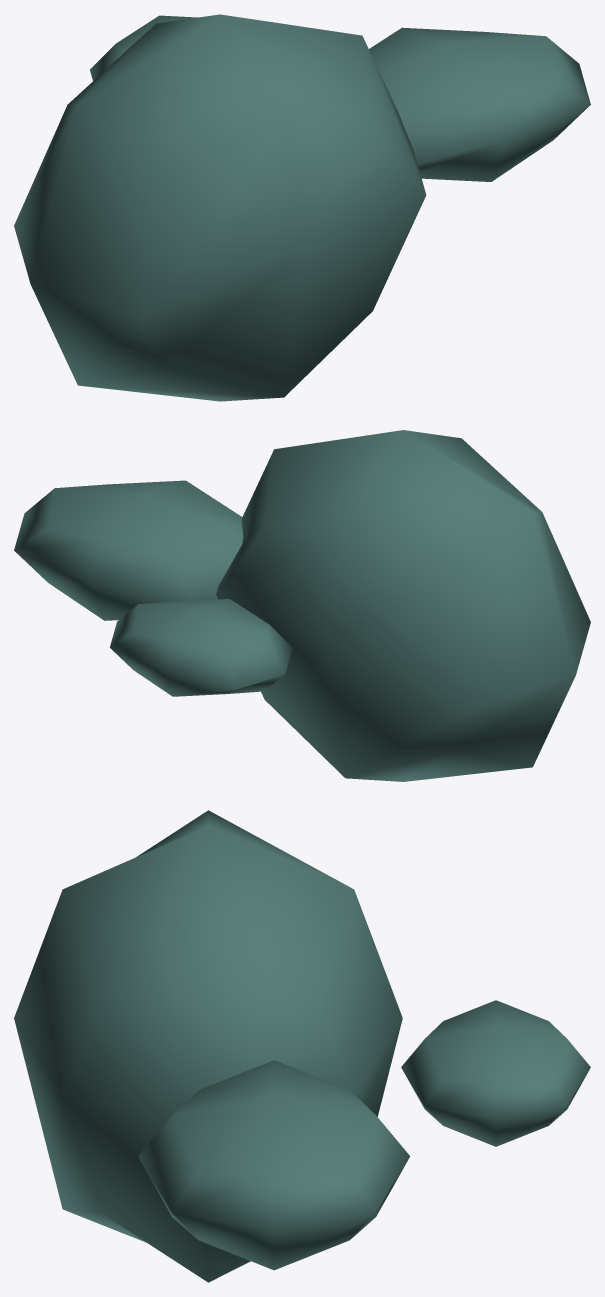
Rendered from stone2.fbx.
3 renders of one model, top to bottom at view 1: azimuth 30°, elevation 25°; view 2: azimuth 150°, elevation 25°; view 3: azimuth 270°, elevation 25°, orthographic. The views are drawn at different scales.
Parts seen in each view (by area): view 1: pCube9; view 2: pCube9; view 3: pCube9.
Boxes of the visible parts, bbox=[...] form: pCube9: bbox=[14, 14, 590, 401]; pCube9: bbox=[14, 430, 590, 781]; pCube9: bbox=[14, 810, 590, 1282].
Bounding box in the file's own units: 38.3 × 24.52 × 29.04.
